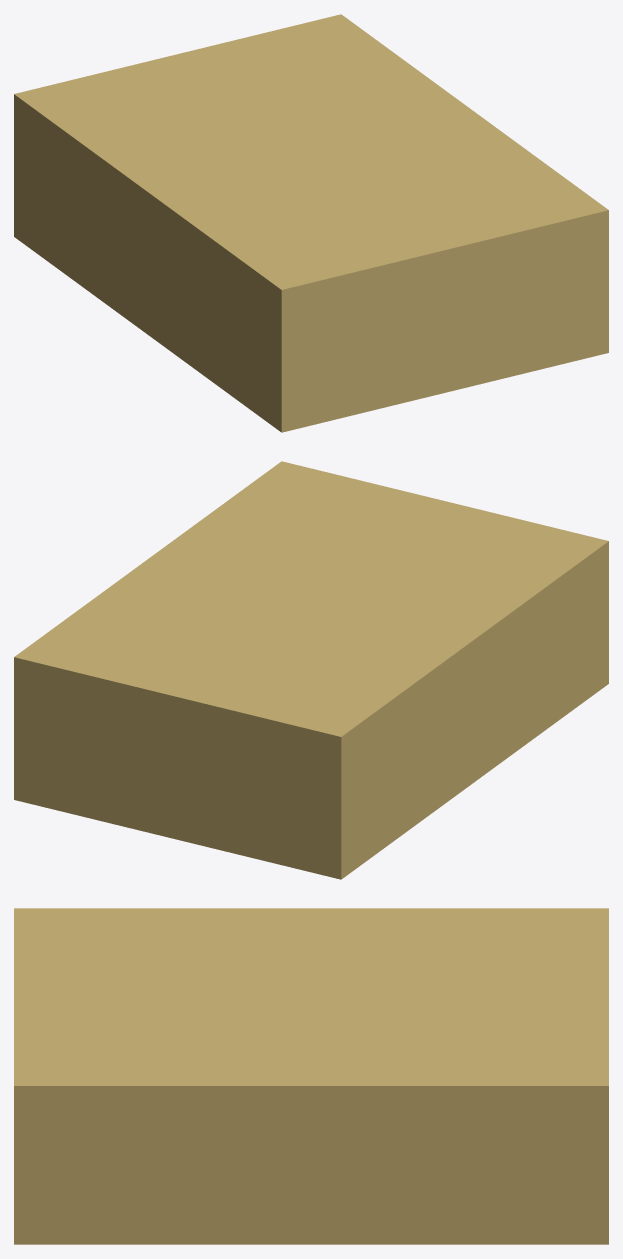
The model's file is cereal.glb.
The picture shows the model from 3 angles, top to bottom: view 1: azimuth 30°, elevation 25°; view 2: azimuth 150°, elevation 25°; view 3: azimuth 270°, elevation 25°; orthographic projection. The views are drawn at different scales.
Parts seen in each view (by area): view 1: 00_package; view 2: 00_package; view 3: 00_package.
Part boxes in pixels (x1,y1,x2,y2): 00_package: (14, 14, 608, 432); 00_package: (14, 461, 608, 879); 00_package: (14, 908, 608, 1244).
Bounding box in the file's own units: 0.24 × 0.113 × 0.34.
